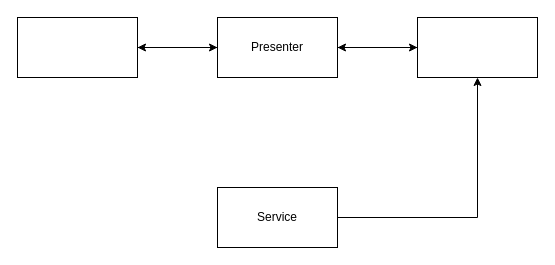
This 555x265 diagram has some shape labels left out. Each missing label, with the centre of its shape:
Model: point (477, 47)
View: point (77, 47)
